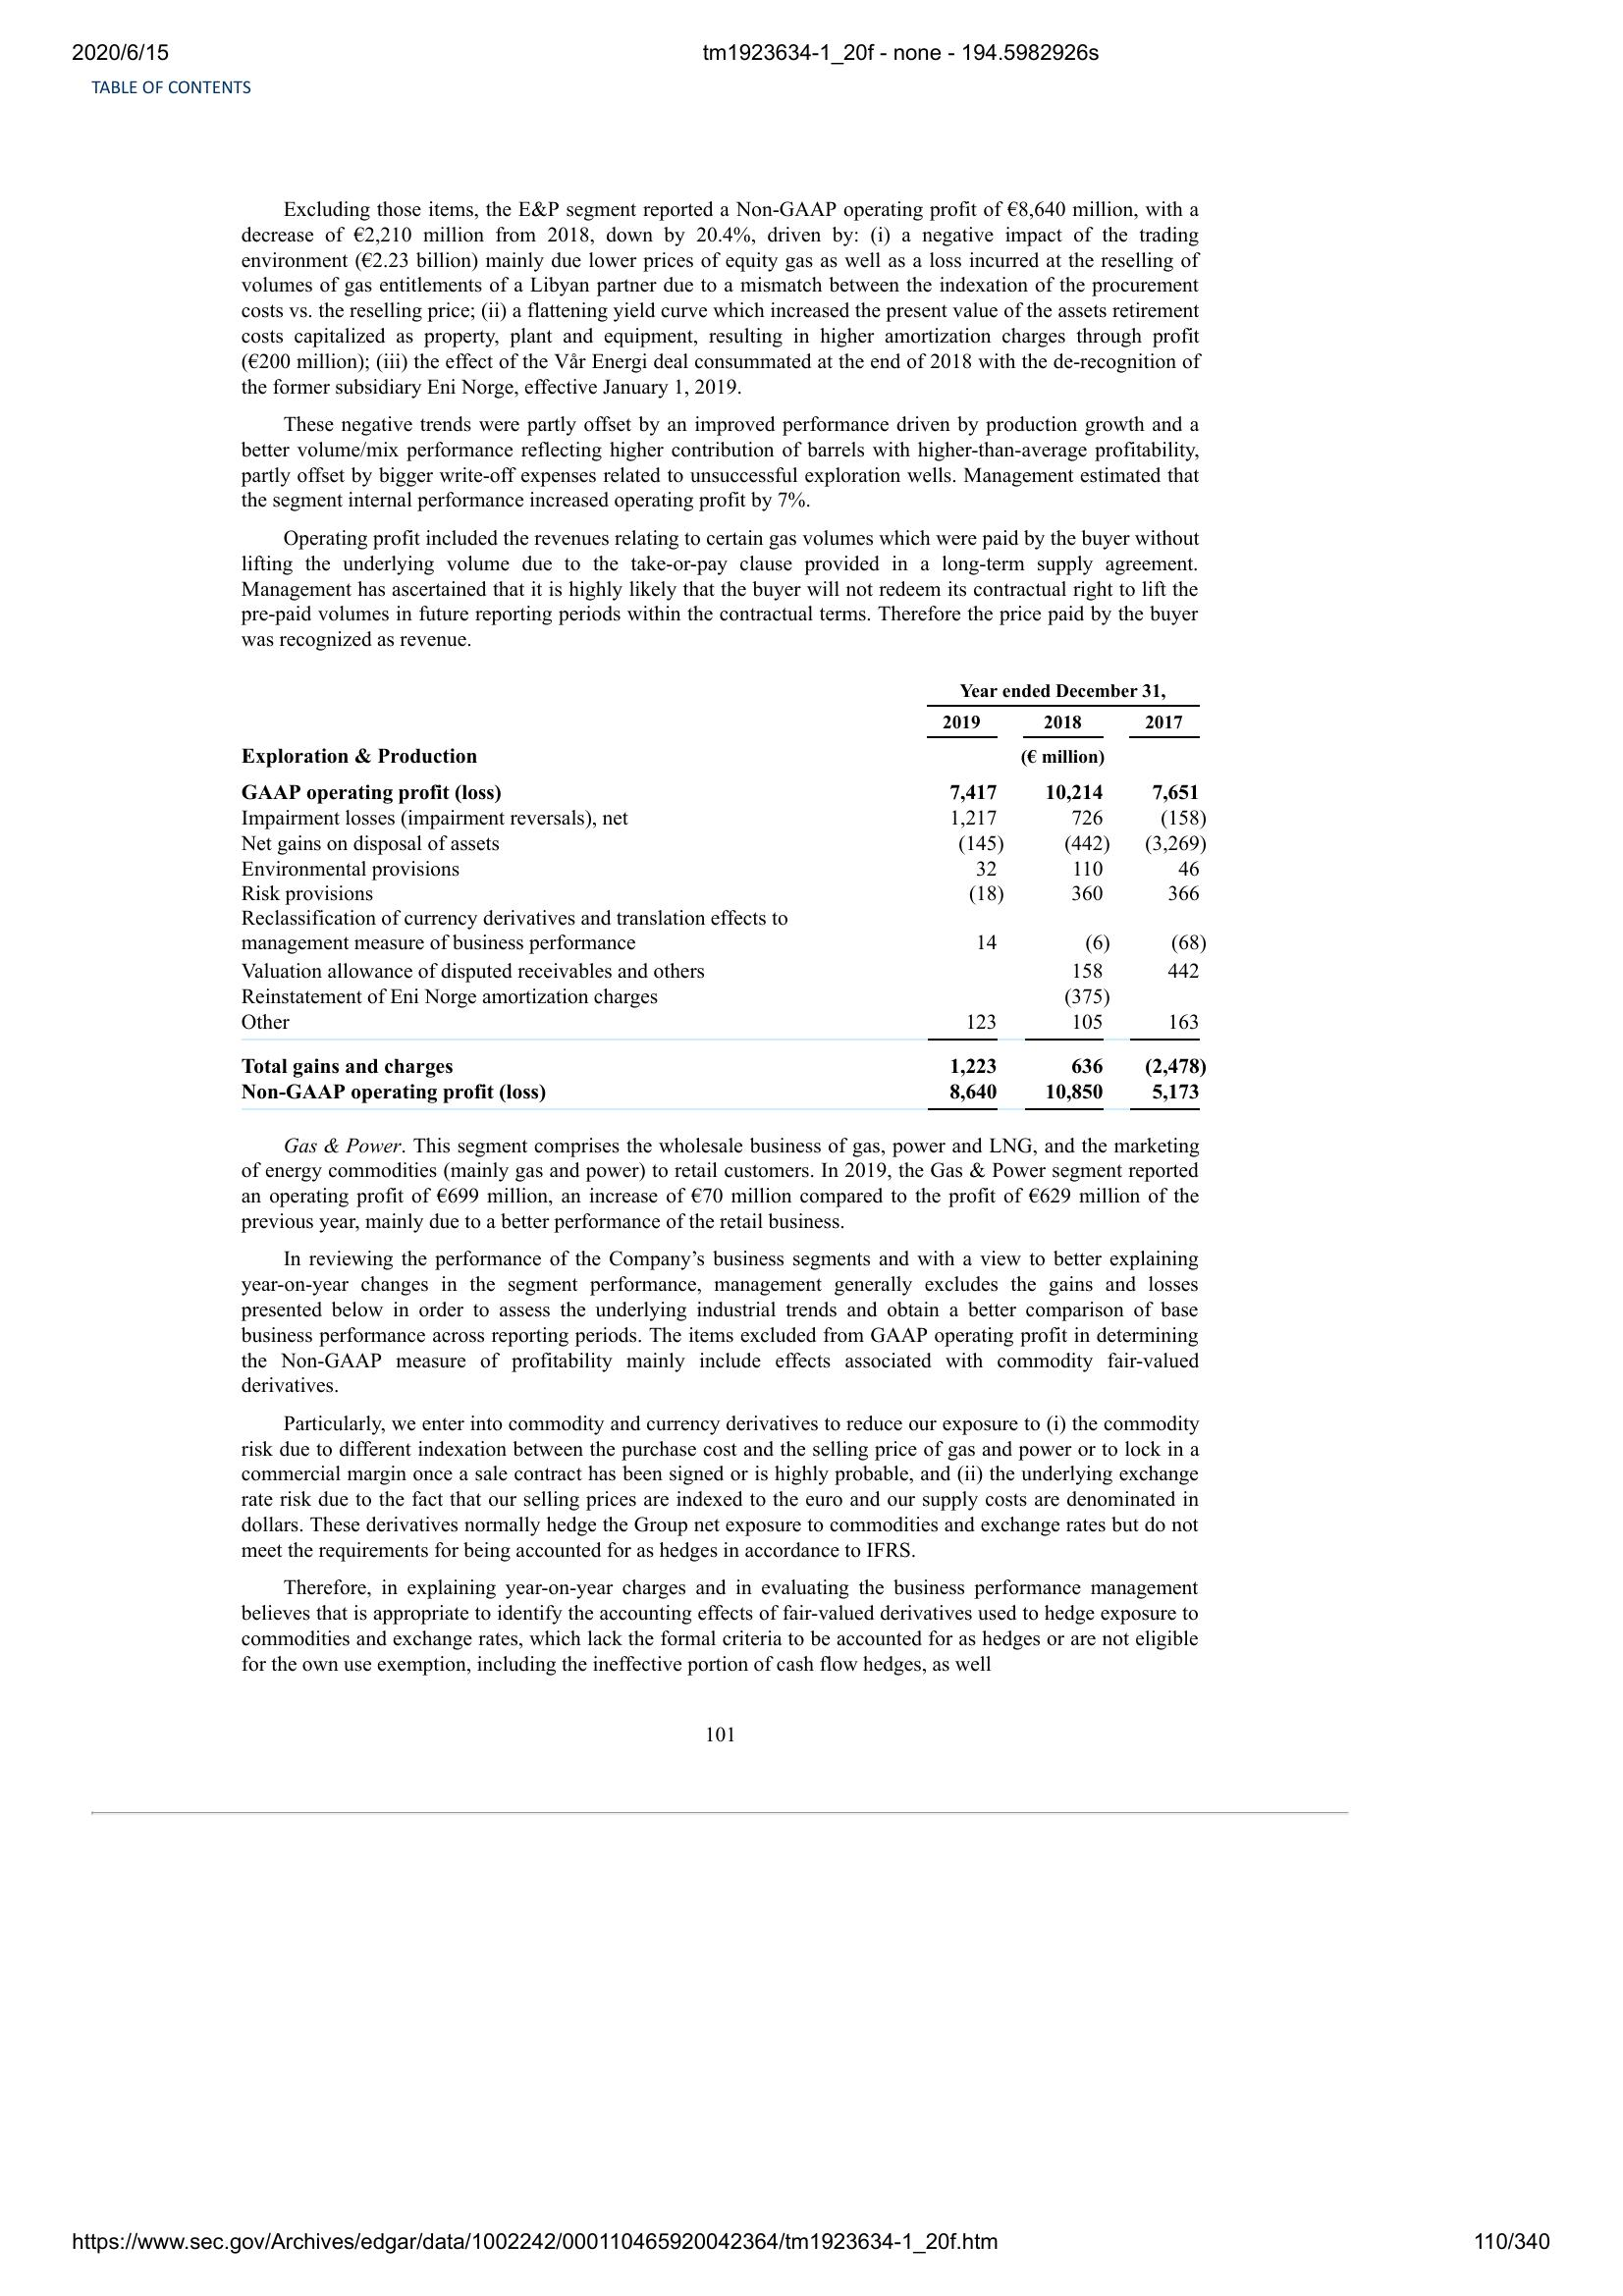table: (237, 679, 1210, 1115)
